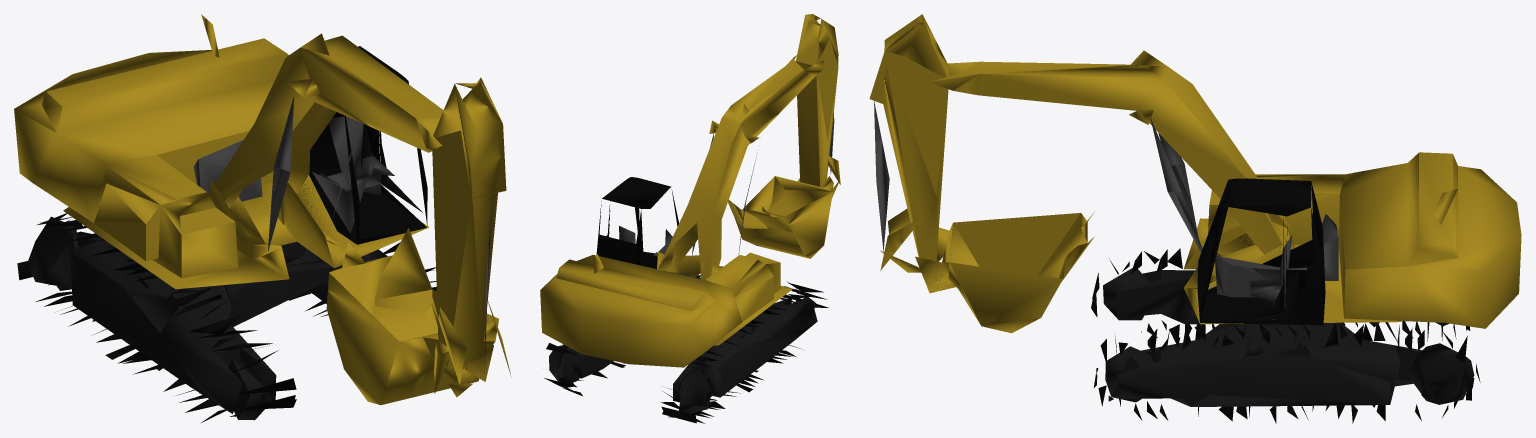
Rendered from excavator.lod1.glb.
3 renders of one model, left to right at view 1: azimuth 30°, elevation 25°; view 2: azimuth 150°, elevation 25°; view 3: azimuth 270°, elevation 25°, orthographic. The views are drawn at different scales.
Visible parts, largest first — view 1: Object_3, Object_2; view 2: Object_3, Object_2; view 3: Object_3, Object_2.
Part boxes in pixels (box(x1,y1,x2,y2)): Object_3: box(14, 14, 511, 420); Object_2: box(17, 46, 436, 423); Object_3: box(540, 14, 840, 414); Object_2: box(544, 177, 828, 423); Object_3: box(869, 14, 1521, 407); Object_2: box(1091, 178, 1480, 423).
Size of the model in its own units: 3.83 by 5.92 by 9.89.
